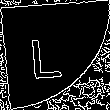L_N: (37, 28, 73, 82)
